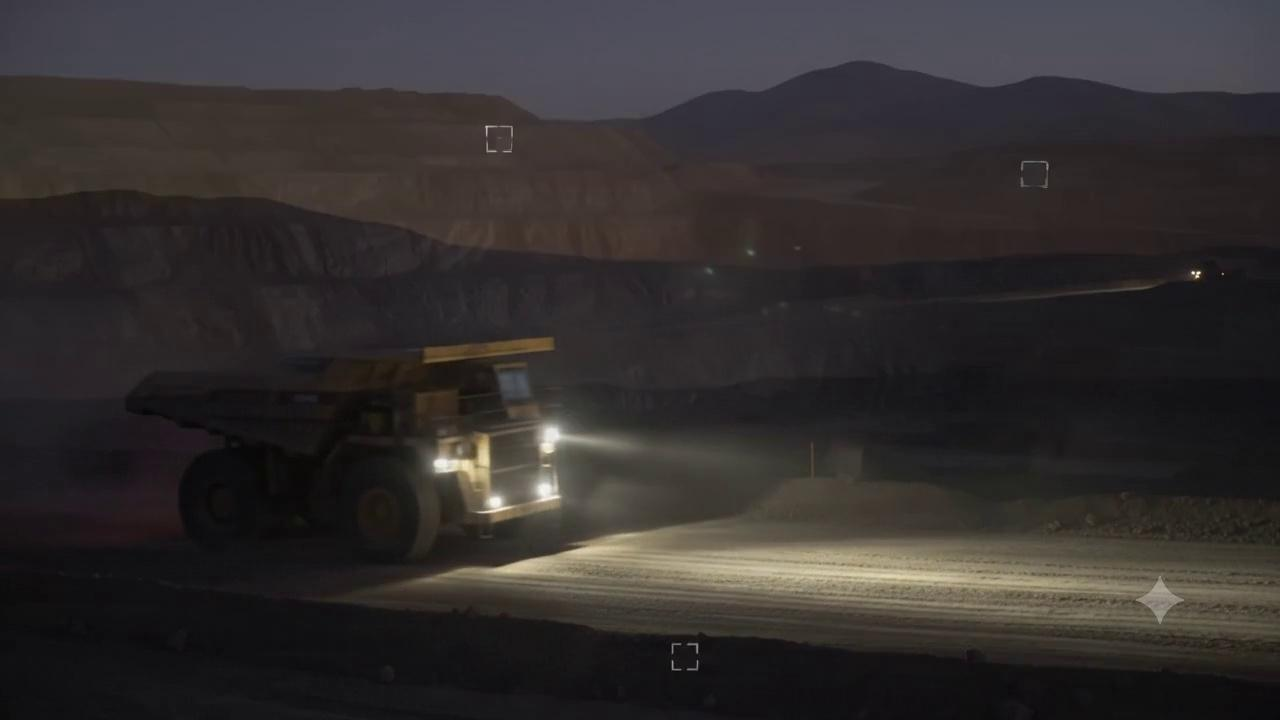CAEX: (123, 336, 565, 564)
